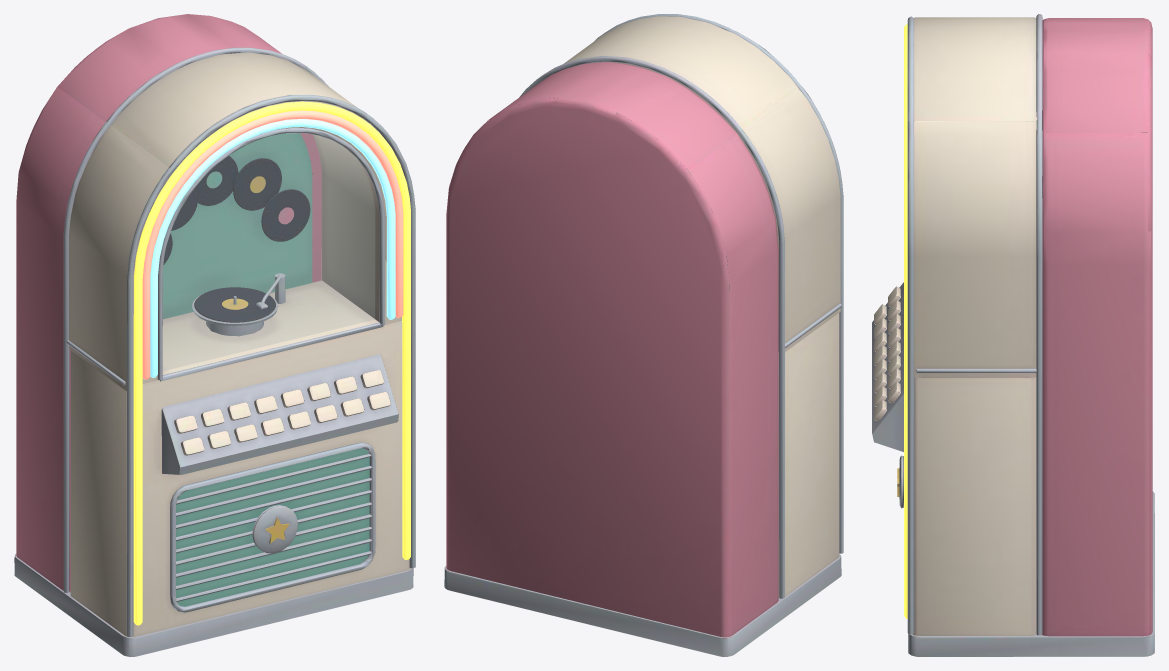
Rendered from jukebox.glb.
3 renders of one model, left to right at view 1: azimuth 30°, elevation 25°; view 2: azimuth 150°, elevation 25°; view 3: azimuth 270°, elevation 25°, orthographic. The views are drawn at different scales.
Visible parts, largest first — view 1: jukebox_body, jukebox_window_glass, jukebox_light_tubes; view 2: jukebox_body; view 3: jukebox_body, jukebox_light_tubes.
Part boxes in pixels (x1=…): jukebox_body: x1=14, y1=14, x2=415, y2=656; jukebox_window_glass: x1=163, y1=133, x2=374, y2=370; jukebox_light_tubes: x1=133, y1=101, x2=410, y2=625; jukebox_body: x1=444, y1=14, x2=843, y2=656; jukebox_body: x1=872, y1=14, x2=1154, y2=656; jukebox_light_tubes: x1=904, y1=24, x2=907, y2=619.
Size of the model in its own units: 0.8772 by 1.51 by 0.701.
Materials: 5 (1 with a texture image).
